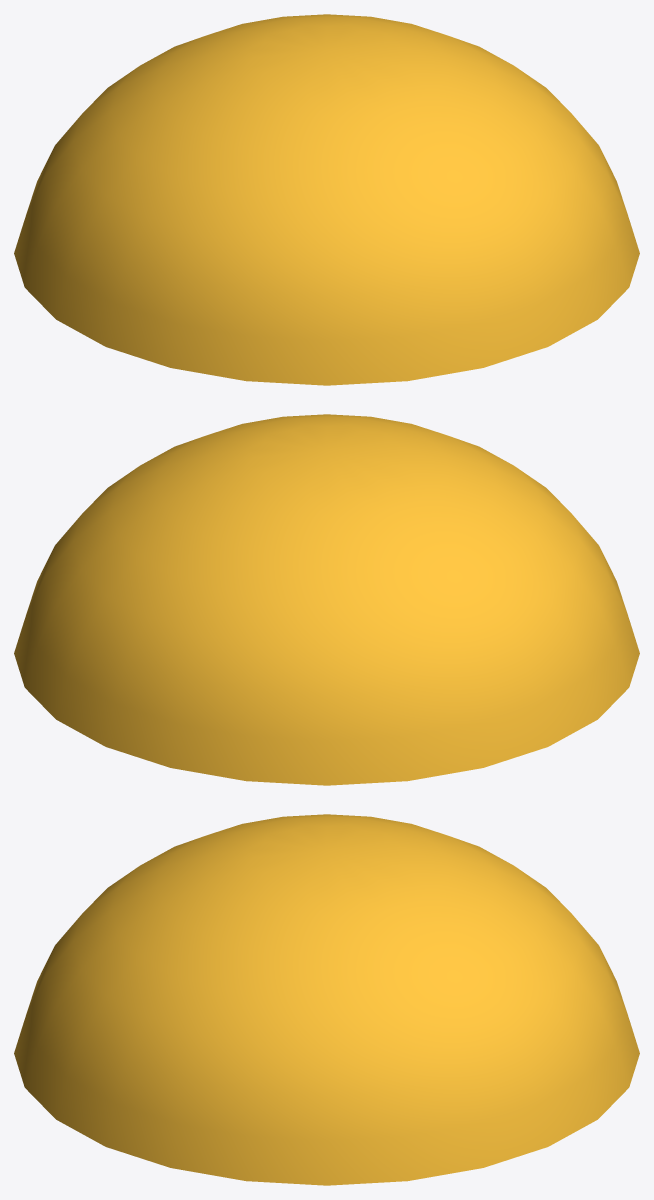
The model's file is SM_huegel_02.fbx.
3 views of the same model, one above another, from view 1: azimuth 30°, elevation 25°; view 2: azimuth 150°, elevation 25°; view 3: azimuth 270°, elevation 25° (orthographic).
Parts seen in each view (by area): view 1: huegel_02.001; view 2: huegel_02.001; view 3: huegel_02.001.
Part boxes in pixels (left/top/right/bottom): huegel_02.001: left=14, top=14, right=639, bottom=385; huegel_02.001: left=14, top=414, right=639, bottom=785; huegel_02.001: left=14, top=814, right=639, bottom=1185.
Bounding box in the file's own units: 175 × 62.37 × 175.
